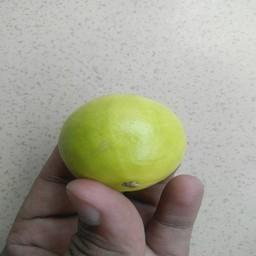Good_lime: (54, 90, 196, 198)
